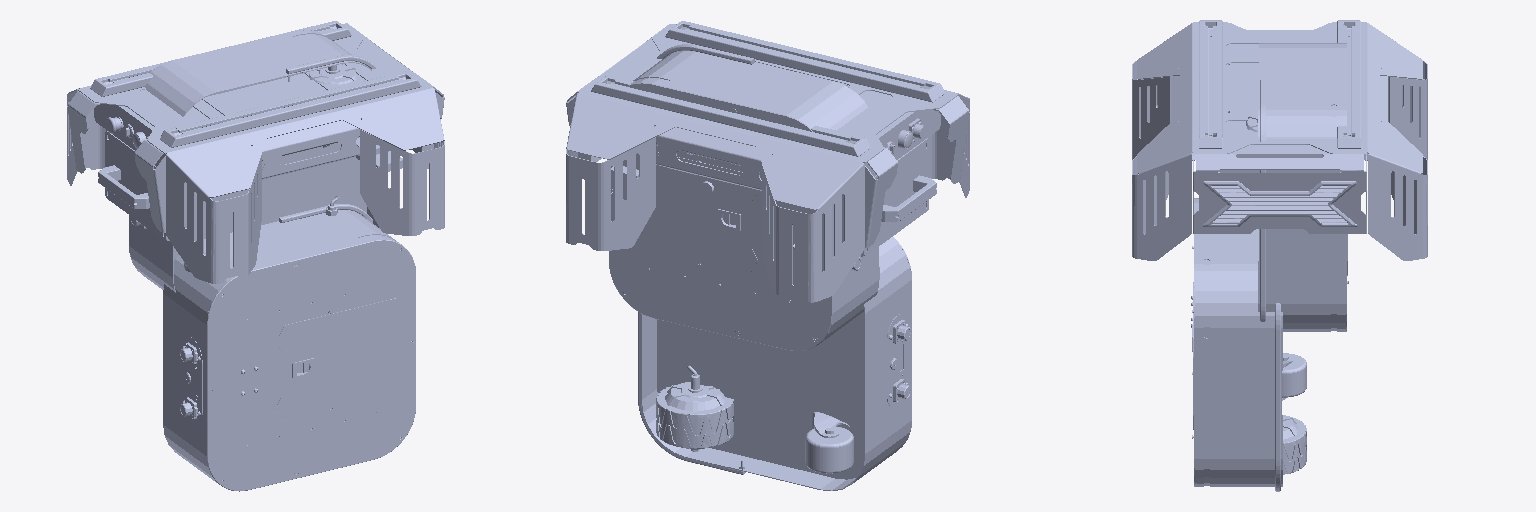
URDF robot description (ranger_mini):
<?xml version="1.0" encoding="utf-8"?>
<!-- This URDF was automatically created by SolidWorks to URDF Exporter! Originally created by [author] ([email redacted]) 
     Commit Version: 1.6.0-4-g7f85cfe  Build Version: 1.6.7995.38578
     For more information, please see http://wiki.ros.org/sw_urdf_exporter -->
<robot
  name="ranger_mini">
  <link
    name="base_link">
    <inertial>
      <origin
        xyz="-0.0242698272228022 -0.0030308024613212 0.0544267444673498"
        rpy="0 0 0" />
      <mass
        value="0.162715996120322" />
      <inertia
        ixx="0.000723700192916944"
        ixy="-1.55745142682799E-08"
        ixz="-3.42378773027466E-12"
        iyy="0.000744046536331603"
        iyz="2.24935144207573E-07"
        izz="2.14412578189702E-05" />
    </inertial>
    <visual>
      <origin
        xyz="0 0 0"
        rpy="0 0 0" />
      <geometry>
        <mesh
          filename="package://ranger_mini/meshes/base_link.STL" />
      </geometry>
      <material
        name="">
        <color
          rgba="0.792156862745098 0.819607843137255 0.933333333333333 1" />
      </material>
    </visual>
    <collision>
      <origin
        xyz="0 0 0"
        rpy="0 0 0" />
      <geometry>
        <mesh
          filename="package://ranger_mini/meshes/base_link.STL" />
      </geometry>
    </collision>
  </link>
  <link
    name="fr_Link">
    <inertial>
      <origin
        xyz="1.8493E-05 1.2713E-06 0.043679"
        rpy="0 0 0" />
      <mass
        value="2.2786" />
      <inertia
        ixx="0.0063625"
        ixy="-1.0581E-07"
        ixz="-4.0831E-07"
        iyy="0.006363"
        iyz="-3.4944E-08"
        izz="0.010465" />
    </inertial>
    <visual>
      <origin
        xyz="0 0 0"
        rpy="0 0 0" />
      <geometry>
        <mesh
          filename="package://ranger_mini/meshes/fr_Link.STL" />
      </geometry>
      <material
        name="">
        <color
          rgba="0.79216 0.81961 0.93333 1" />
      </material>
    </visual>
    <collision>
      <origin
        xyz="0 0 0"
        rpy="0 0 0" />
      <geometry>
        <mesh
          filename="package://ranger_mini/meshes/fr_Link.STL" />
      </geometry>
    </collision>
  </link>
  <joint
    name="rl_joint"
    type="continuous">
    <origin
      xyz="0.2195 -0.015804 0.11898"
      rpy="0 0.006858 0" />
    <parent
      link="base_link" />
    <child
      link="fr_Link" />
    <axis
      xyz="0 0 -1" />
  </joint>
  <link
    name="fl_Link">
    <inertial>
      <origin
        xyz="-0.0017956 -9.6304E-08 0.043642"
        rpy="0 0 0" />
      <mass
        value="2.2786" />
      <inertia
        ixx="0.0063695"
        ixy="-2.1067E-08"
        ixz="-0.00016867"
        iyy="0.006363"
        iyz="-1.0301E-08"
        izz="0.010458" />
    </inertial>
    <visual>
      <origin
        xyz="0 0 0"
        rpy="0 0 0" />
      <geometry>
        <mesh
          filename="package://ranger_mini/meshes/fl_Link.STL" />
      </geometry>
      <material
        name="">
        <color
          rgba="0.79216 0.81961 0.93333 1" />
      </material>
    </visual>
    <collision>
      <origin
        xyz="0 0 0"
        rpy="0 0 0" />
      <geometry>
        <mesh
          filename="package://ranger_mini/meshes/fl_Link.STL" />
      </geometry>
    </collision>
  </link>
  <joint
    name="fl_joint"
    type="continuous">
    <origin
      xyz="0.22145 -0.015803 -0.16276"
      rpy="3.1416 0 0" />
    <parent
      link="base_link" />
    <child
      link="fl_Link" />
    <axis
      xyz="0.041054 0 -0.99916" />
  </joint>
  <link
    name="br_Link">
    <inertial>
      <origin
        xyz="-0.00017093 6.1255E-08 0.043678"
        rpy="0 0 0" />
      <mass
        value="2.2786" />
      <inertia
        ixx="0.0063627"
        ixy="-2.1069E-08"
        ixz="-1.587E-05"
        iyy="0.006363"
        iyz="9.3201E-09"
        izz="0.010465" />
    </inertial>
    <visual>
      <origin
        xyz="0 0 0"
        rpy="0 0 0" />
      <geometry>
        <mesh
          filename="package://ranger_mini/meshes/br_Link.STL" />
      </geometry>
      <material
        name="">
        <color
          rgba="0.79216 0.81961 0.93333 1" />
      </material>
    </visual>
    <collision>
      <origin
        xyz="0 0 0"
        rpy="0 0 0" />
      <geometry>
        <mesh
          filename="package://ranger_mini/meshes/br_Link.STL" />
      </geometry>
    </collision>
  </link>
  <joint
    name="br_joint"
    type="continuous">
    <origin
      xyz="-0.27015 -0.015803 0.12117"
      rpy="0 0 0" />
    <parent
      link="base_link" />
    <child
      link="br_Link" />
    <axis
      xyz="0.0039668 0 -0.99999" />
  </joint>
  <link
    name="bl_Link">
    <inertial>
      <origin
        xyz="-0.0011575 -4.8644E-06 0.043663"
        rpy="0 0 0" />
      <mass
        value="2.2786" />
      <inertia
        ixx="0.0063656"
        ixy="-8.1498E-08"
        ixz="-0.00011049"
        iyy="0.006363"
        iyz="6.6847E-08"
        izz="0.010462" />
    </inertial>
    <visual>
      <origin
        xyz="0 0 0"
        rpy="0 0 0" />
      <geometry>
        <mesh
          filename="package://ranger_mini/meshes/bl_Link.STL" />
      </geometry>
      <material
        name="">
        <color
          rgba="0.79216 0.81961 0.93333 1" />
      </material>
    </visual>
    <collision>
      <origin
        xyz="0 0 0"
        rpy="0 0 0" />
      <geometry>
        <mesh
          filename="package://ranger_mini/meshes/bl_Link.STL" />
      </geometry>
    </collision>
  </link>
  <joint
    name="bl_joint"
    type="continuous">
    <origin
      xyz="-0.26982 -0.01581 -0.16063"
      rpy="-3.1405 -0.014946 0.086503" />
    <parent
      link="base_link" />
    <child
      link="bl_Link" />
    <axis
      xyz="0.027043 0 -0.99963" />
  </joint>
</robot>

--- Render facts (derived) ---
The picture shows the robot from 3 angles, left to right: view 1: azimuth 30°, elevation 25°; view 2: azimuth 150°, elevation 25°; view 3: azimuth 270°, elevation 25°; orthographic projection.
Model ranger_mini with 5 links and 4 joints (4 continuous), rooted at base_link, posed all joints at 0.
Links seen in each view (by area): view 1: fl_Link, base_link, fr_Link; view 2: base_link, fl_Link, fr_Link; view 3: base_link, fl_Link, fr_Link.
Link boxes in pixels (x1,y1,x2,y2): fl_Link: [163, 204, 415, 491]; base_link: [67, 21, 444, 283]; fr_Link: [129, 30, 378, 292]; base_link: [566, 21, 969, 302]; fl_Link: [638, 237, 911, 490]; fr_Link: [609, 44, 879, 350]; base_link: [1132, 20, 1427, 260]; fl_Link: [1191, 198, 1306, 491]; fr_Link: [1246, 43, 1348, 331].
Bounding box of the posed robot: 0.5573 × 0.491 × 0.6984 m (x, y, z).
3 mesh visuals loaded from 5 distinct referenced files (3 binary STL); not drawn: 2 (reference not matched to a file when rendering).